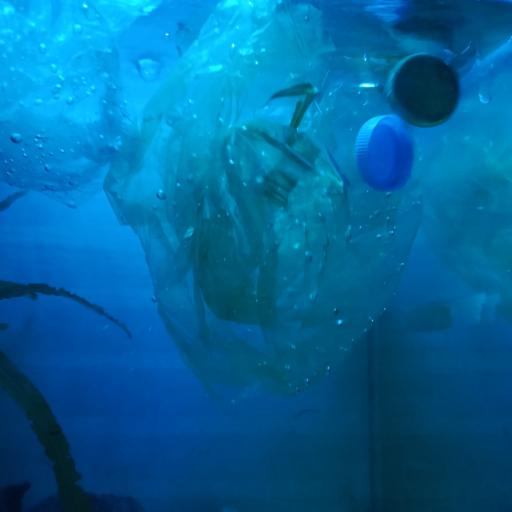bottle_cap: (386, 53, 462, 127), (355, 113, 414, 192)
plastic_bag: (106, 0, 427, 412), (0, 0, 188, 203)
